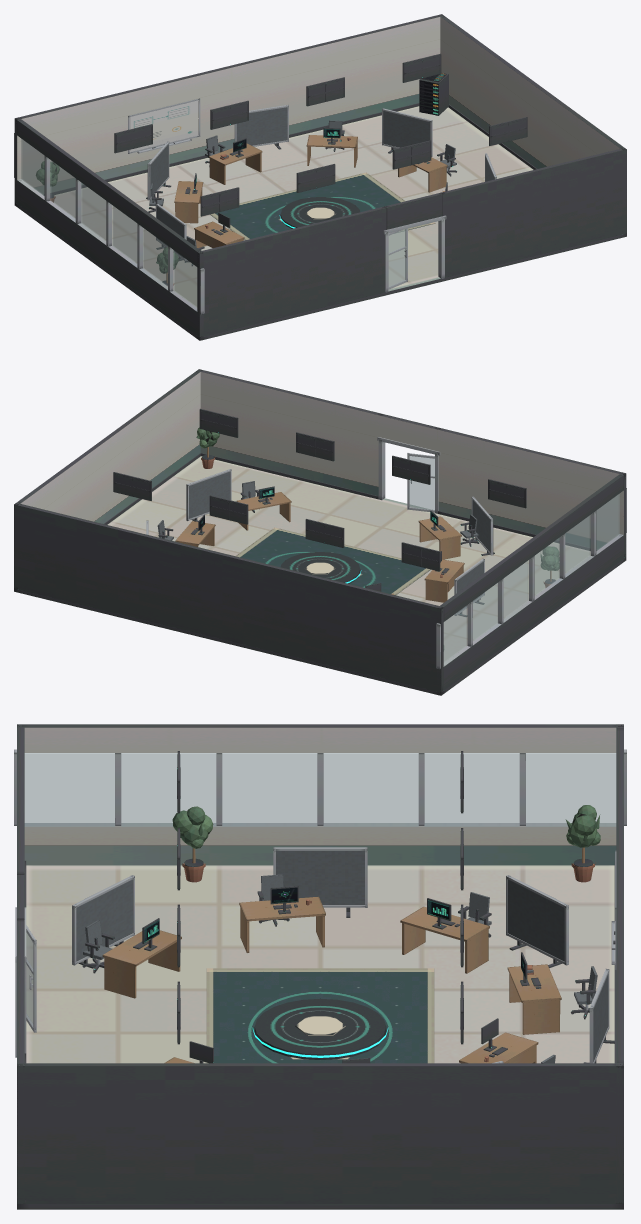
Rendered from office-room.glb.
The picture shows the model from 3 angles, top to bottom: view 1: azimuth 30°, elevation 25°; view 2: azimuth 150°, elevation 25°; view 3: azimuth 270°, elevation 25°; orthographic projection. The views are drawn at different scales.
Parts seen in each view (by area): view 1: wall-front-mesh, wall-back-mesh, floor-mesh, wall-right-mesh, wall-left-mesh, window-glass-left-mesh, carpet-mesh, whiteboard-mesh, partition-03-mesh, podium-mesh, partition-02-mesh, workstation-04-mesh (+18 smaller); view 2: wall-back-mesh, wall-front-mesh, floor-mesh, wall-right-mesh, wall-left-mesh, window-glass-left-mesh, carpet-mesh, podium-mesh, workstation-07-mesh, partition-01-mesh, baseboards-mesh, workstation-01-mesh (+16 smaller); view 3: wall-right-mesh, floor-mesh, wall-left-mesh, window-glass-left-mesh, carpet-mesh, podium-mesh, partition-05-mesh, workstation-07-mesh, partition-04-mesh, wall-back-mesh, workstation-05-mesh, workstation-04-mesh (+8 smaller).
Part boxes in pixels (bbox=[...]): wall-front-mesh: bbox=[197, 148, 626, 336]; wall-back-mesh: bbox=[14, 14, 443, 202]; floor-mesh: bbox=[14, 106, 626, 340]; wall-right-mesh: bbox=[438, 15, 626, 232]; wall-left-mesh: bbox=[14, 117, 204, 337]; window-glass-left-mesh: bbox=[21, 139, 197, 307]; carpet-mesh: bbox=[210, 172, 435, 240]; whiteboard-mesh: bbox=[128, 98, 200, 153]; partition-03-mesh: bbox=[234, 105, 288, 149]; podium-mesh: bbox=[279, 197, 360, 228]; partition-02-mesh: bbox=[382, 108, 432, 156]; workstation-04-mesh: bbox=[205, 135, 262, 184]; wall-back-mesh: bbox=[14, 503, 443, 692]; wall-front-mesh: bbox=[198, 369, 626, 558]; floor-mesh: bbox=[14, 456, 626, 695]; wall-right-mesh: bbox=[14, 369, 202, 589]; wall-left-mesh: bbox=[436, 472, 626, 691]; window-glass-left-mesh: bbox=[443, 494, 619, 662]; carpet-mesh: bbox=[235, 527, 430, 595]; podium-mesh: bbox=[280, 552, 361, 583]; workstation-07-mesh: bbox=[418, 510, 479, 559]; partition-01-mesh: bbox=[186, 469, 231, 521]; baseboards-mesh: bbox=[18, 453, 597, 690]; workstation-01-mesh: bbox=[236, 481, 291, 530]; wall-right-mesh: bbox=[17, 1063, 623, 1203]; floor-mesh: bbox=[17, 865, 623, 1209]; wall-left-mesh: bbox=[14, 724, 626, 865]; window-glass-left-mesh: bbox=[24, 753, 616, 826]; carpet-mesh: bbox=[206, 968, 434, 1063]; podium-mesh: bbox=[252, 998, 388, 1059]; partition-05-mesh: bbox=[273, 847, 367, 917]; workstation-07-mesh: bbox=[82, 918, 181, 998]; partition-04-mesh: bbox=[506, 875, 568, 967]; wall-back-mesh: bbox=[616, 724, 623, 1203]; workstation-05-mesh: bbox=[400, 892, 491, 973]; workstation-04-mesh: bbox=[507, 952, 597, 1034].
Bounding box in the file's own units: 16 × 3.43 × 12.12.
2 materials, 1 textured.
